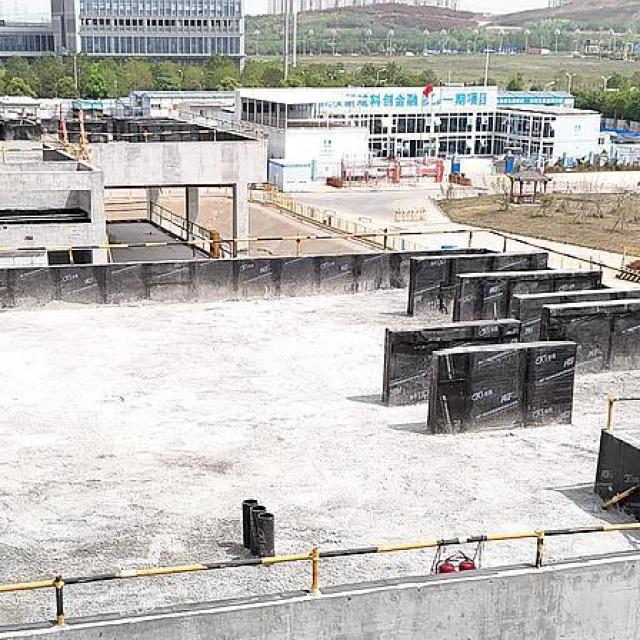edge_guardrail: (0, 519, 640, 625), (0, 229, 640, 280), (85, 107, 261, 142), (148, 201, 232, 258), (0, 134, 83, 162), (601, 483, 640, 508), (104, 201, 149, 212)
